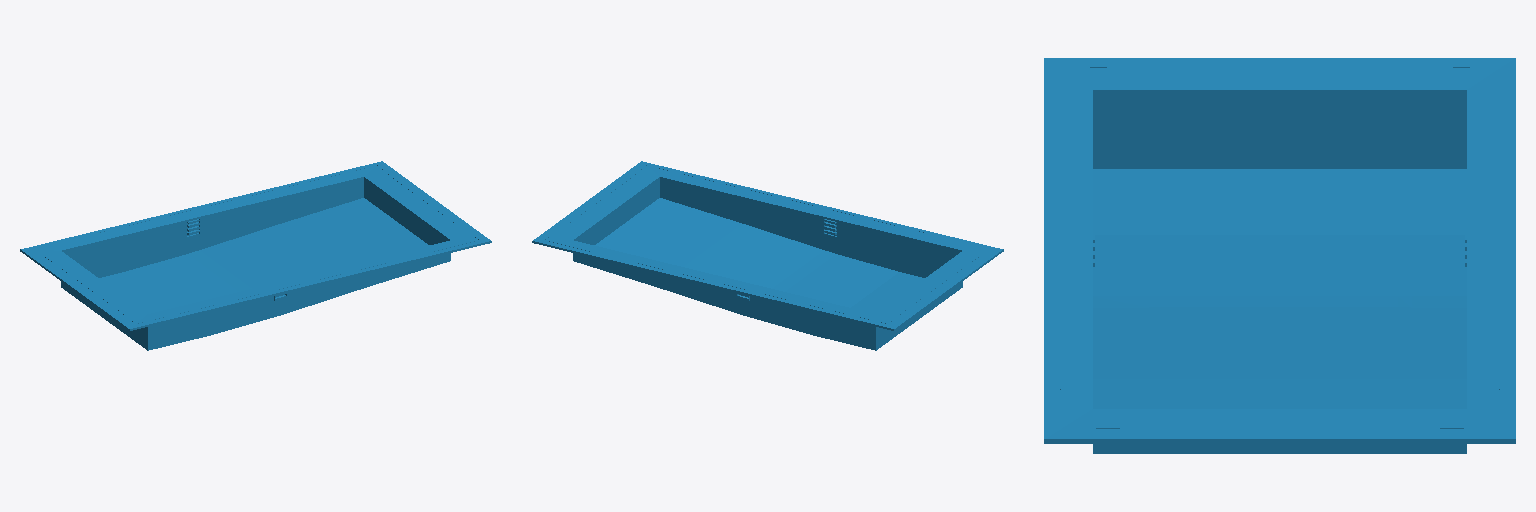
robot.urdf — Pool:
<?xml version="1.0" encoding="utf-8"?>
<robot name="Pool">
  <link name="base_link">
    <inertial>
      <origin xyz="0 0 0" rpy="0 0 0" />
      <mass value="100.0" />
      <inertia
        ixx="20.0"
        ixy="0.0"
        ixz="0.0"
        iyy="20.0"
        iyz="0.0"
        izz="20.0" />
    </inertial>
    <visual>
      <origin xyz="0 0 0" rpy="0 0 0" />
      <geometry>
        <mesh filename="package://pool_description/meshes/pool.dae" />
      </geometry>
      <material name="">
        <color rgba="0.2 0.6 0.8 1" />
      </material>
    </visual>
    <collision>
      <origin xyz="0 0 0" rpy="0 0 0" />
      <geometry>
        <mesh filename="package://pool_description/meshes/pool.dae" />
      </geometry>
    </collision>
  </link>
  
  <!-- Additional gazebo properties for the entire robot -->
  <gazebo>
    <static>true</static>
  </gazebo>
</robot>

--- What the picture shows (computed from the rendered views, not written in the file) ---
3 views of the same robot in one strip: view 1: azimuth 30°, elevation 25°; view 2: azimuth 150°, elevation 25°; view 3: azimuth 270°, elevation 25° (orthographic).
Robot: Pool — 1 links, 0 joints (none); root link base_link; default pose: every joint at zero.
Visible links, largest first — view 1: base_link; view 2: base_link; view 3: base_link.
Boxes of the visible links, left/top/right/bottom form: base_link: left=20, top=161, right=491, bottom=350; base_link: left=532, top=161, right=1003, bottom=350; base_link: left=1044, top=58, right=1515, bottom=453.
Bounding box of the posed robot: 68.83 × 35.91 × 6.71 m (x, y, z).
1 mesh visuals loaded from 1 distinct referenced files (1 Collada DAE).